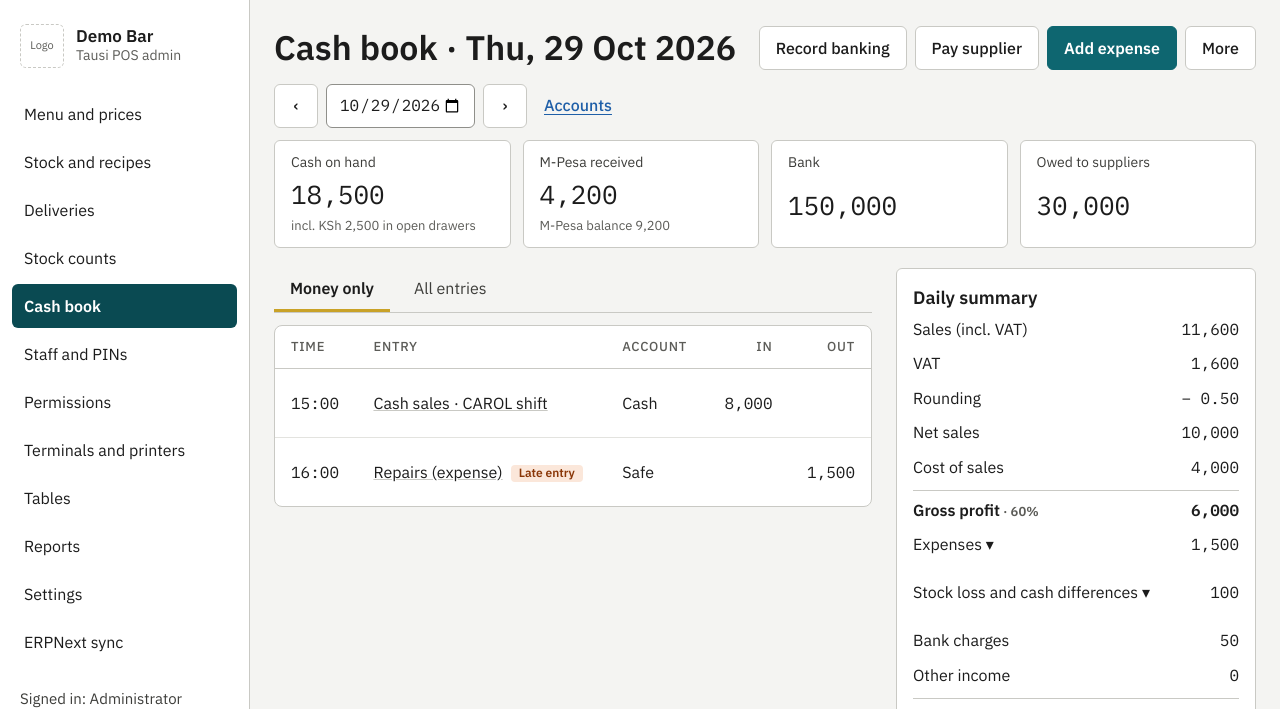
Test: Cash book › shows the day with arrows and a date picker; the next arrow stops at today
Expected: the heading "Cash book · Thu, 29 Oct 2026" is shown, [274, 24, 736, 72]
Click the button named "Previous day".
click(296, 106)  # box [274, 84, 318, 128]
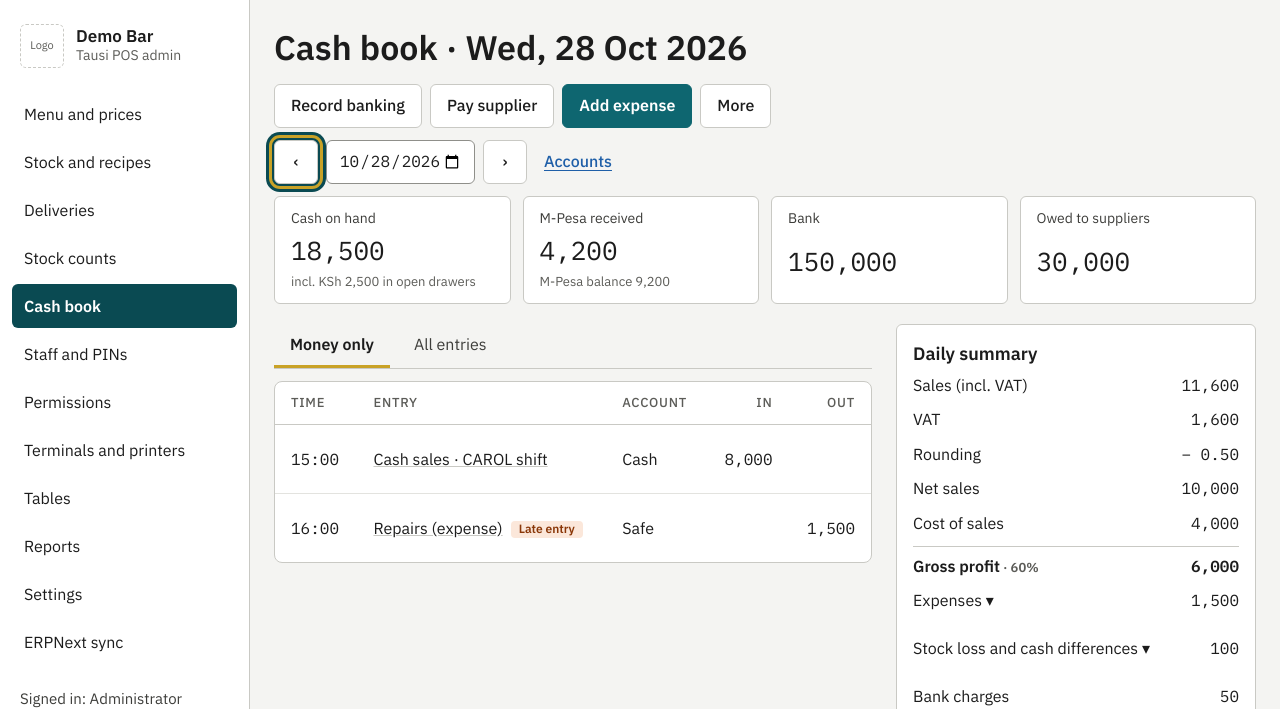
Click the button named "Next day".
click(505, 162)  # box [483, 140, 527, 184]
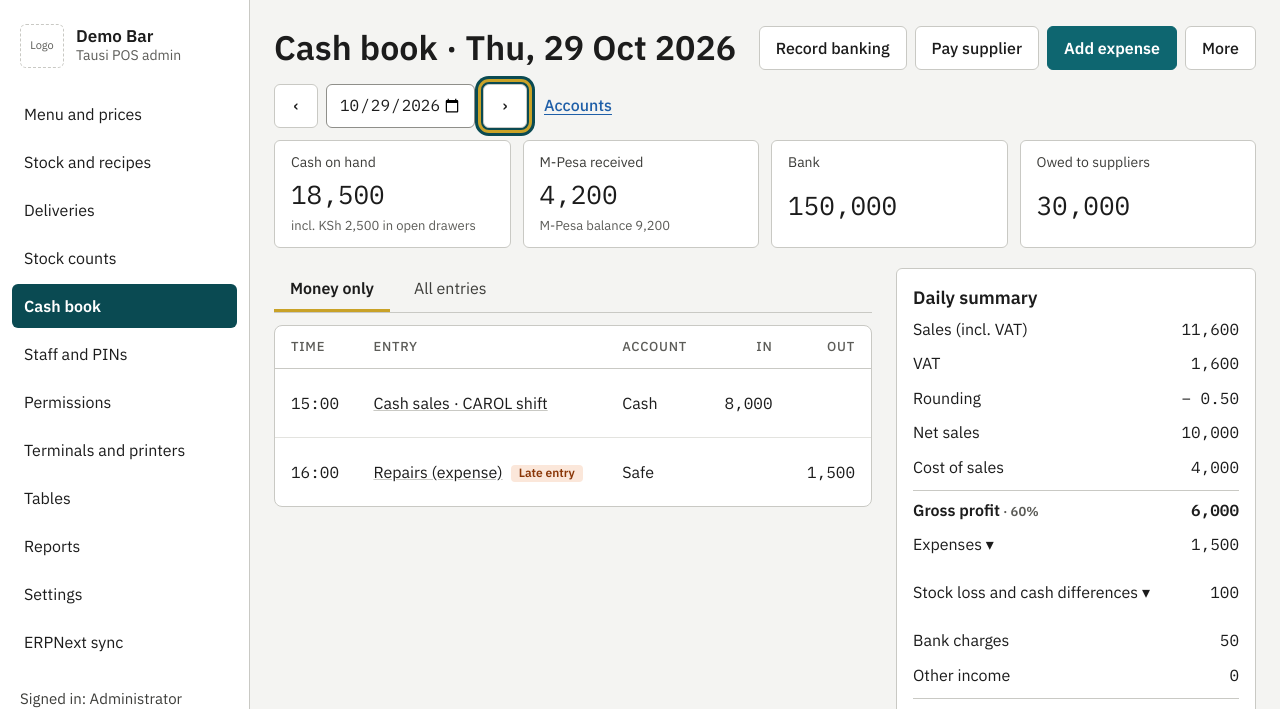
Click the button named "Next day".
click(505, 106)  # box [483, 84, 527, 128]
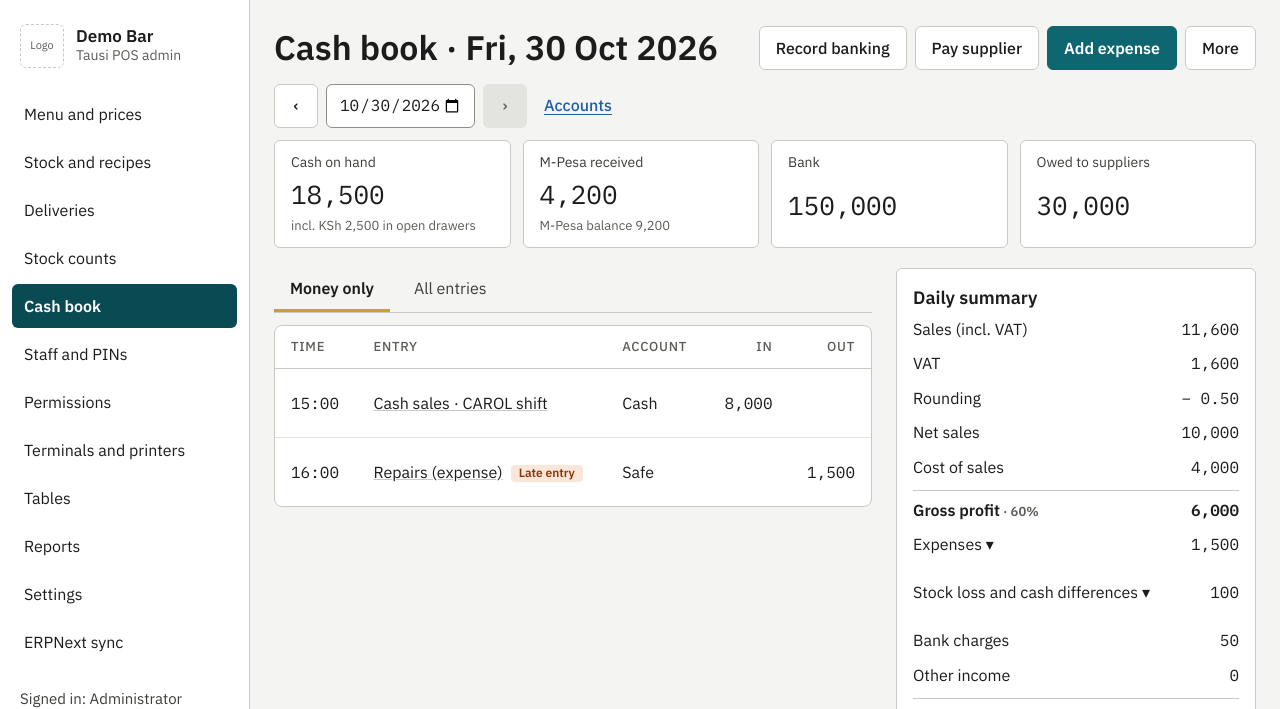
Expected: the button named "Next day" is disabled, [483, 84, 527, 128]
